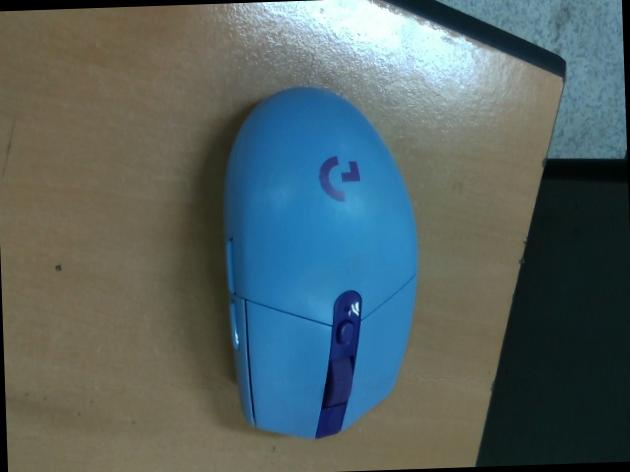mouse: (221, 85, 420, 439)
